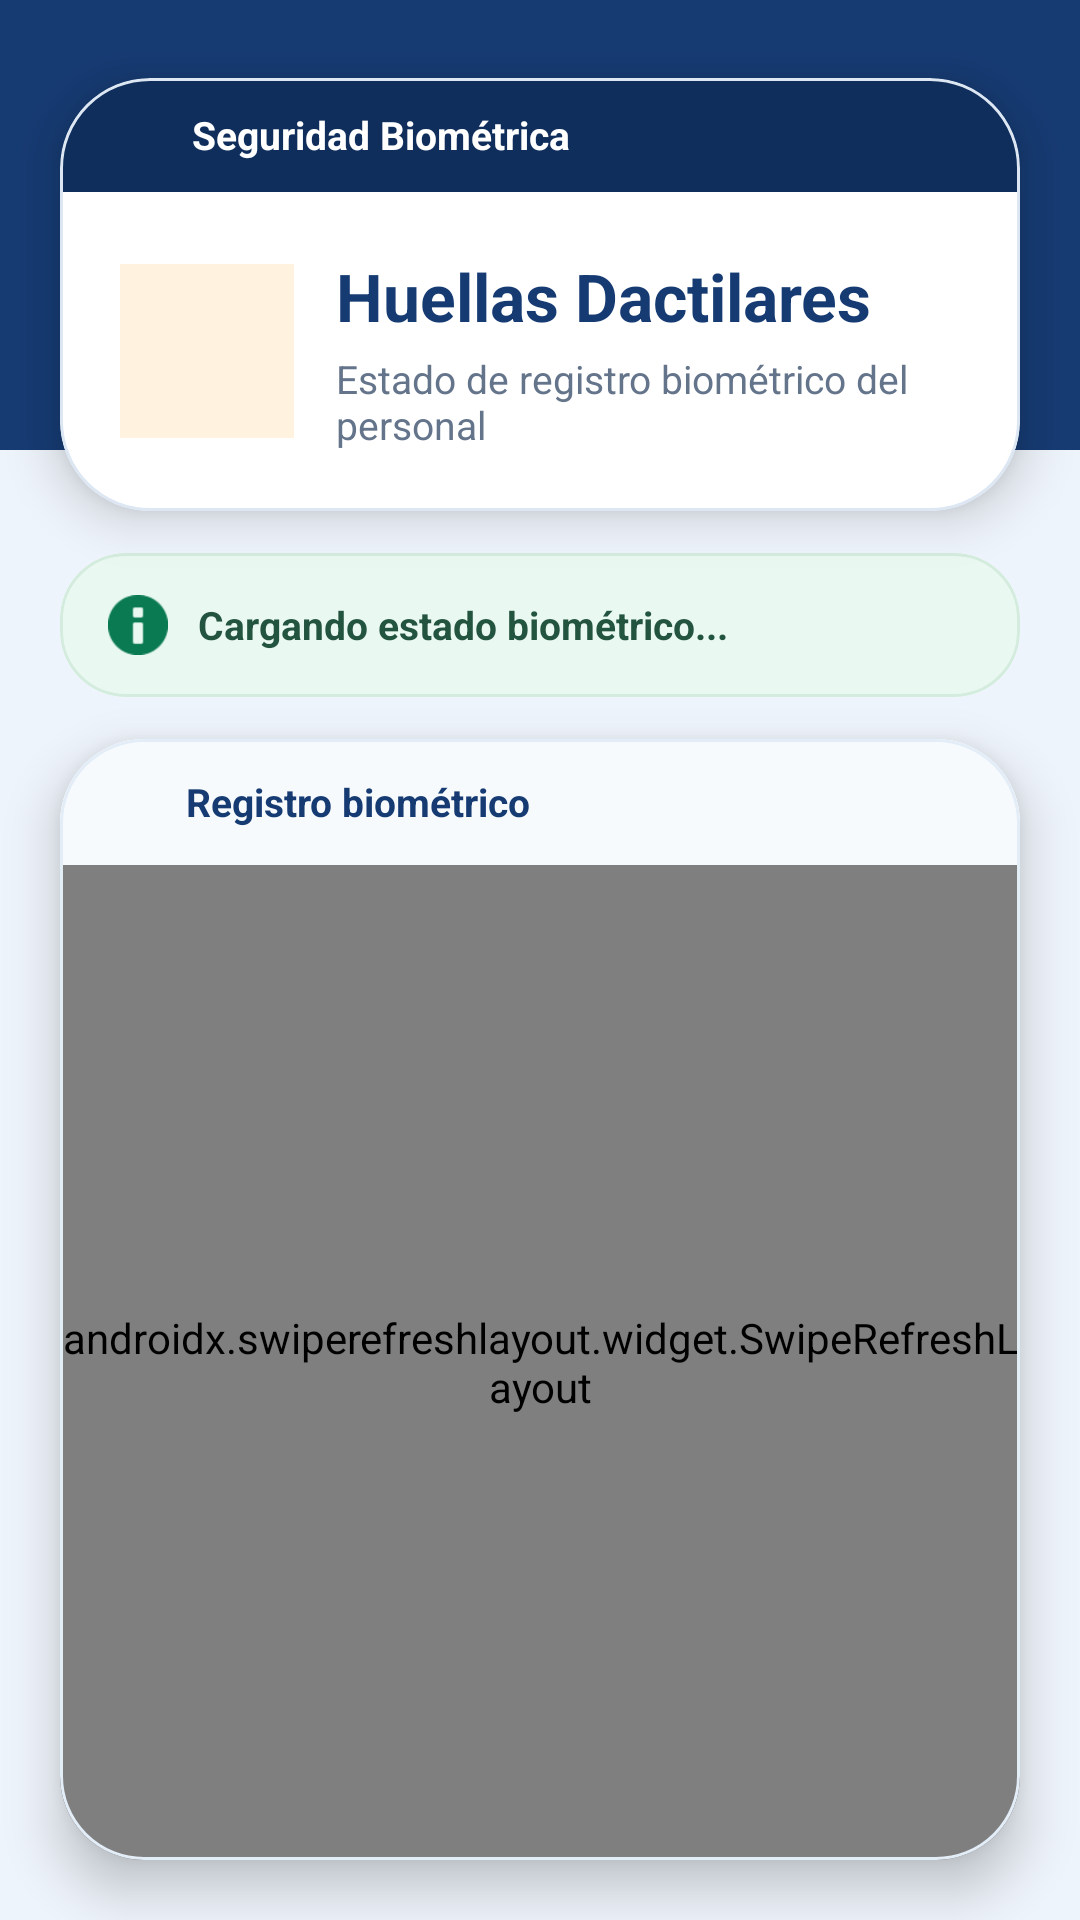

Locate icon controls on the screen. Image size 1080 x 1920, boxes as (x1,y1,x2,y2).
info: (108,595,168,655)
